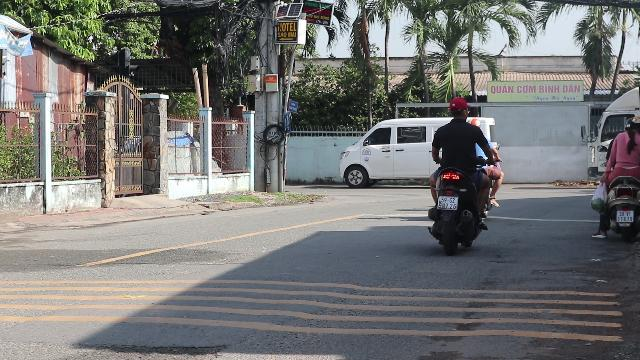helmet: (624, 115, 640, 133)
licenseplate: (438, 195, 458, 209), (617, 210, 633, 221)
motorcyclist: (425, 96, 501, 254), (589, 113, 639, 241)
nohelmet: (447, 96, 469, 120)
